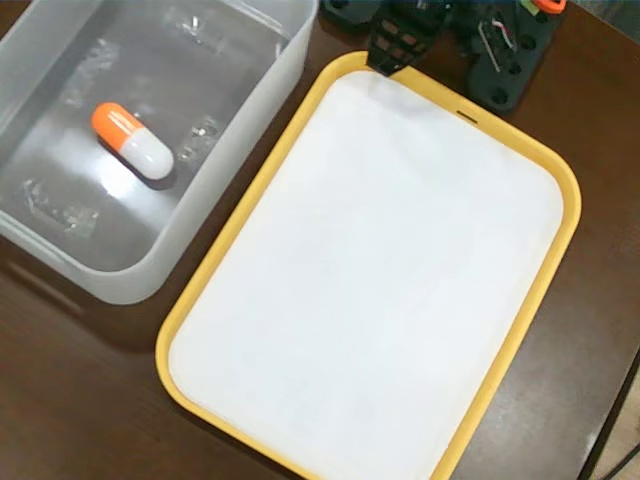pill: (87, 98, 180, 183)
